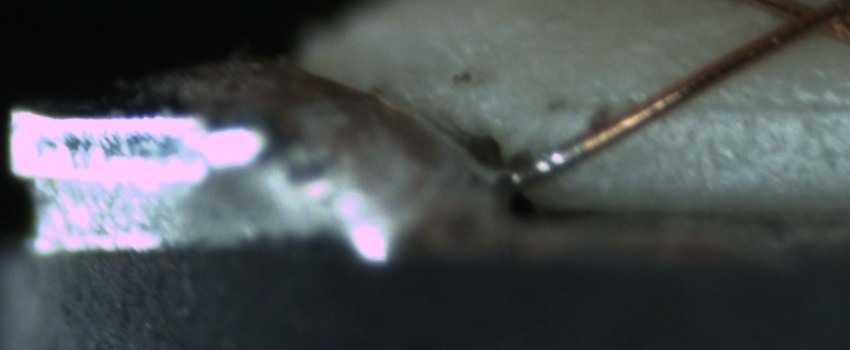CL: (769, 0, 845, 43)
DL: (612, 80, 849, 141)
TS: (505, 137, 589, 189)
TTCW: (510, 121, 605, 189)
